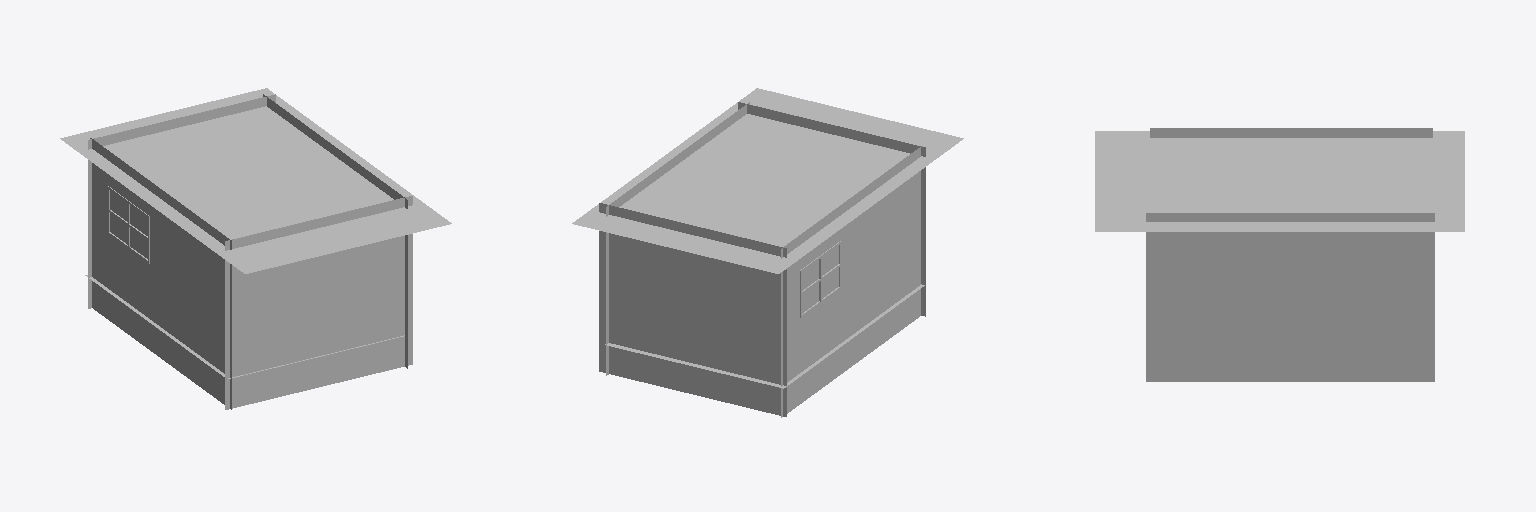
The model's file is kitchenmap13.obj.
3 renders of one model, left to right at view 1: azimuth 30°, elevation 25°; view 2: azimuth 150°, elevation 25°; view 3: azimuth 270°, elevation 25°, orthographic.
Parts seen in each view (by area): view 1: Roof, Back_Short_Wall, Left_Wall, Right_Wall, Back_Long_Wall, Window_Barrier, Window_Frame, Floor; view 2: Roof, Right_Wall, Left_Wall, Back_Short_Wall, Back_Long_Wall, Window_Barrier, Floor, Window_Frame; view 3: Back_Long_Wall, Roof, Left_Wall.
Part boxes in pixels (bbox=[...]): Roof: bbox=[60, 88, 451, 273]; Back_Short_Wall: bbox=[225, 196, 412, 409]; Left_Wall: bbox=[90, 138, 231, 409]; Right_Wall: bbox=[88, 94, 275, 308]; Back_Long_Wall: bbox=[263, 94, 407, 368]; Window_Barrier: bbox=[110, 190, 147, 258]; Window_Frame: bbox=[108, 186, 149, 263]; Floor: bbox=[85, 275, 404, 378]; Roof: bbox=[572, 88, 963, 273]; Right_Wall: bbox=[599, 203, 786, 416]; Left_Wall: bbox=[781, 146, 922, 417]; Back_Short_Wall: bbox=[738, 102, 925, 316]; Back_Long_Wall: bbox=[606, 102, 749, 375]; Window_Barrier: bbox=[802, 245, 838, 313]; Floor: bbox=[605, 284, 924, 388]; Window_Frame: bbox=[800, 241, 841, 317]; Back_Long_Wall: bbox=[1146, 213, 1434, 381]; Roof: bbox=[1095, 131, 1464, 231]; Left_Wall: bbox=[1150, 128, 1432, 137].
Bounding box in the file's own units: 83.42 × 65.1 × 129.